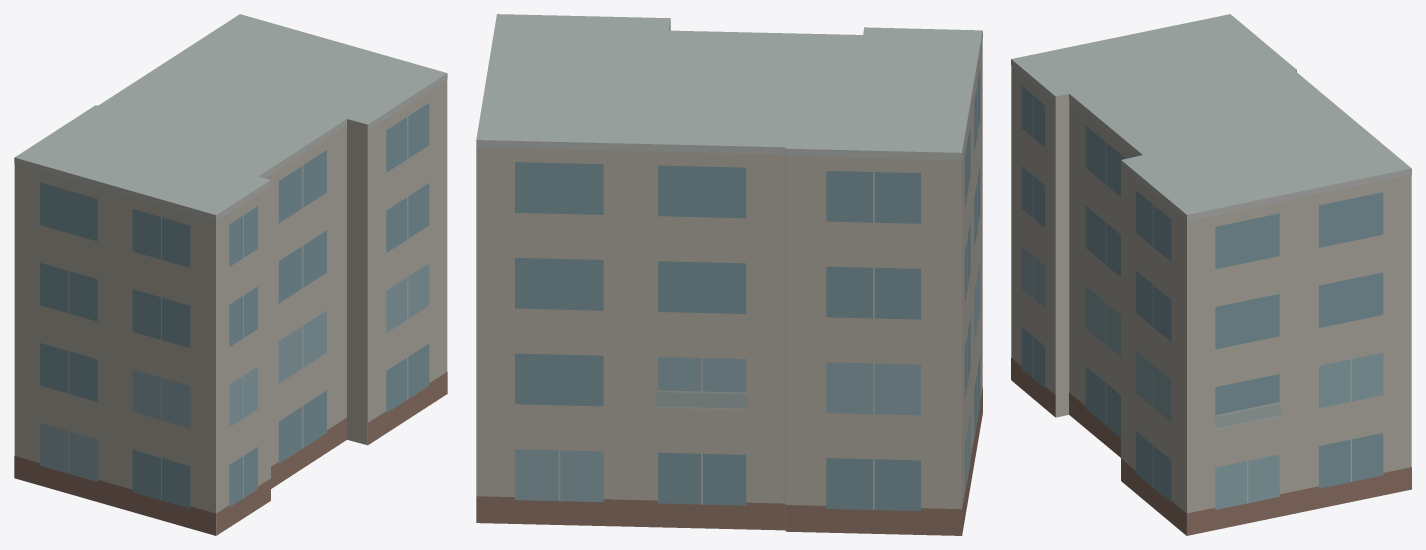
Rendered from survey-upis-32996568.glb.
The picture shows the model from 3 angles, left to right: view 1: azimuth 30°, elevation 25°; view 2: azimuth 150°, elevation 25°; view 3: azimuth 270°, elevation 25°; orthographic projection. The views are drawn at different scales.
Visible parts, largest first — view 1: survey-upis-32996568.tmp; view 2: survey-upis-32996568.tmp; view 3: survey-upis-32996568.tmp.
Boxes of the visible parts, x1,y1,x2,y2 form: survey-upis-32996568.tmp: (14,14,447,535); survey-upis-32996568.tmp: (476,14,982,535); survey-upis-32996568.tmp: (1011,14,1411,535).
Size of the model in its own units: 16.92 by 12.6 by 14.26.
